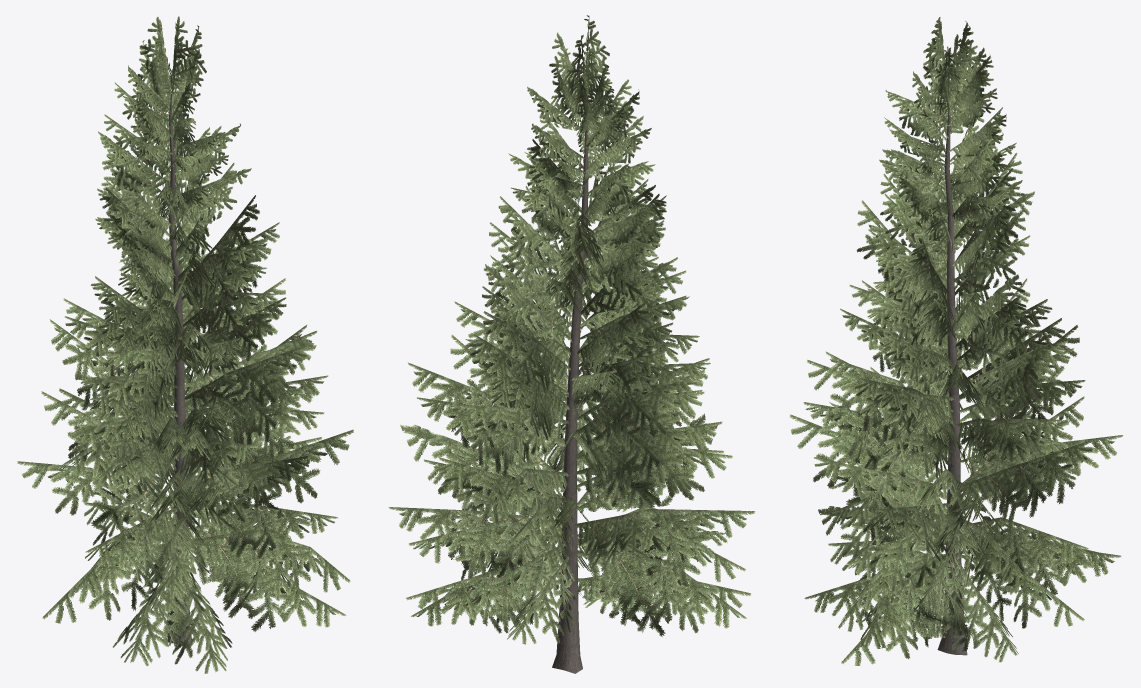
Rendered from Abies_Balsamea_Spring_Young.glb.
3 renders of one model, left to right at view 1: azimuth 30°, elevation 25°; view 2: azimuth 150°, elevation 25°; view 3: azimuth 270°, elevation 25°, orthographic. The views are drawn at different scales.
Visible parts, largest first — view 1: Abies_Balsamea_Spring_Young__LOD3; view 2: Abies_Balsamea_Spring_Young__LOD3; view 3: Abies_Balsamea_Spring_Young__LOD3.
Part boxes in pixels (<box>): Abies_Balsamea_Spring_Young__LOD3: <box>17,16,353,673</box>; Abies_Balsamea_Spring_Young__LOD3: <box>388,15,755,673</box>; Abies_Balsamea_Spring_Young__LOD3: <box>789,17,1123,665</box>.
Size of the model in its own units: 3.97 by 7.7 by 3.76.
Materials: 2 (2 with a texture image).
